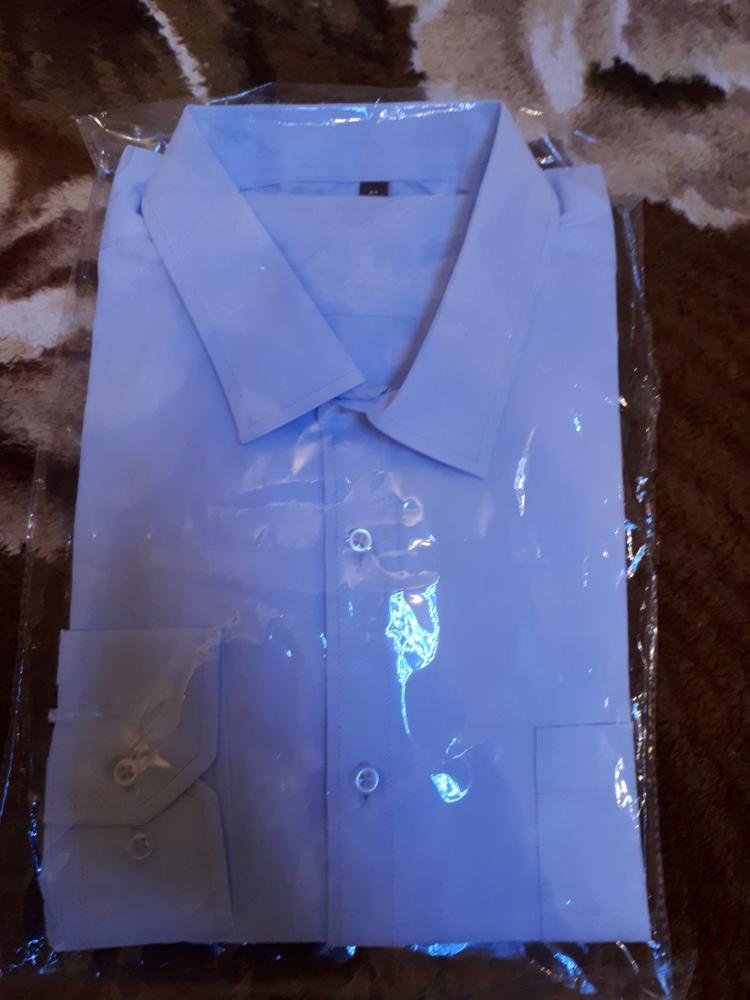shirts: (61, 125, 630, 933)
